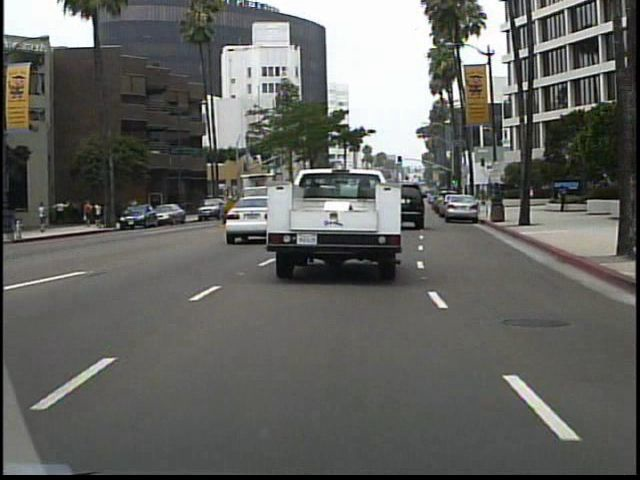person: (39, 199, 51, 236), (556, 183, 569, 215)
